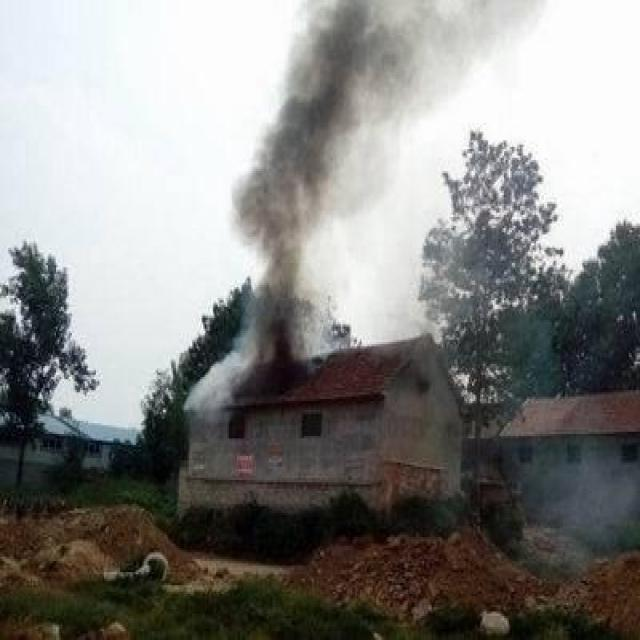Smoke: (183, 2, 492, 428), (523, 436, 640, 577)
